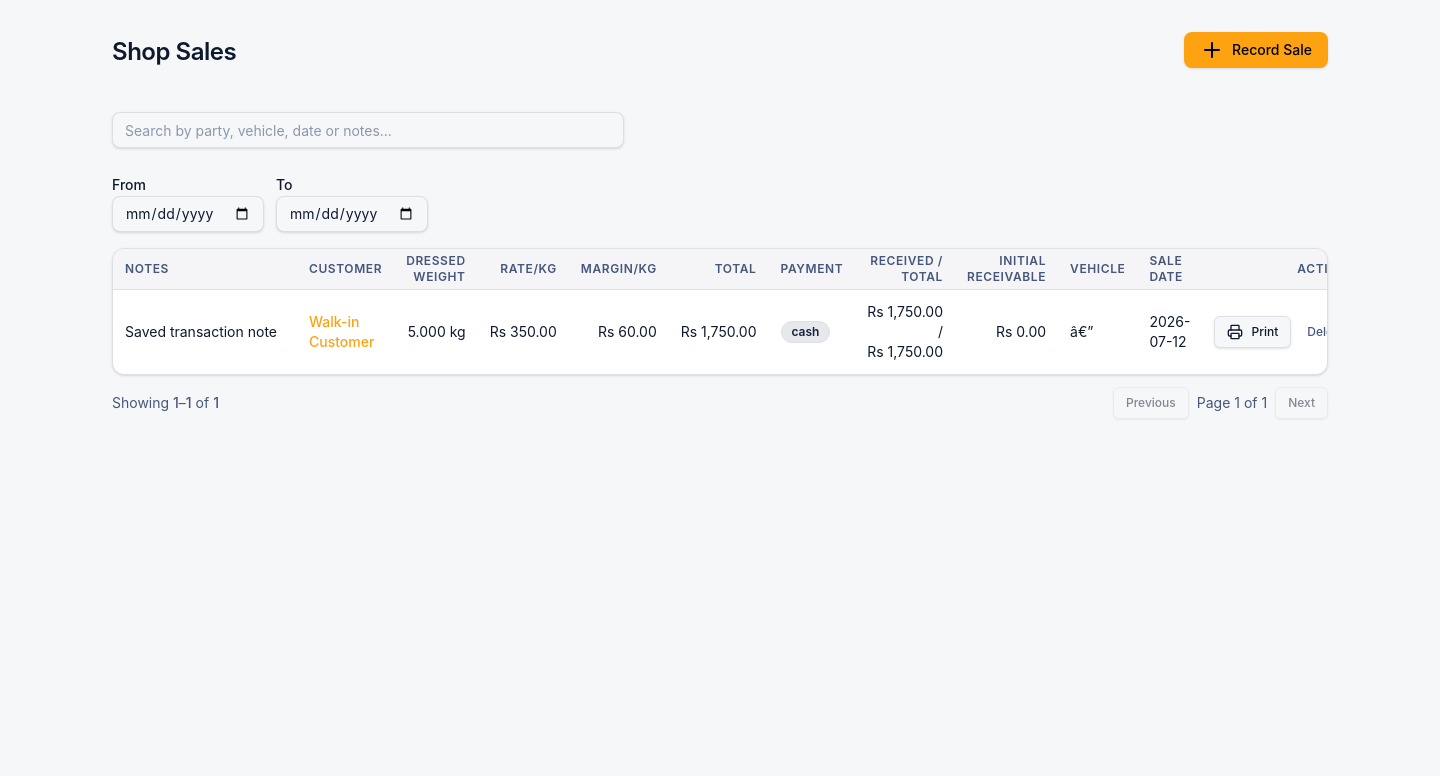
Scenario: ShopSalesPage › opens record sale dialog with stock hint
This screenshot has width=1440, height=776.
Expected: the text "Saved transaction note" is shown, [125,322,285,342]
Click the button "Record Sale".
click(1256, 50)  # box [1184,32,1328,68]
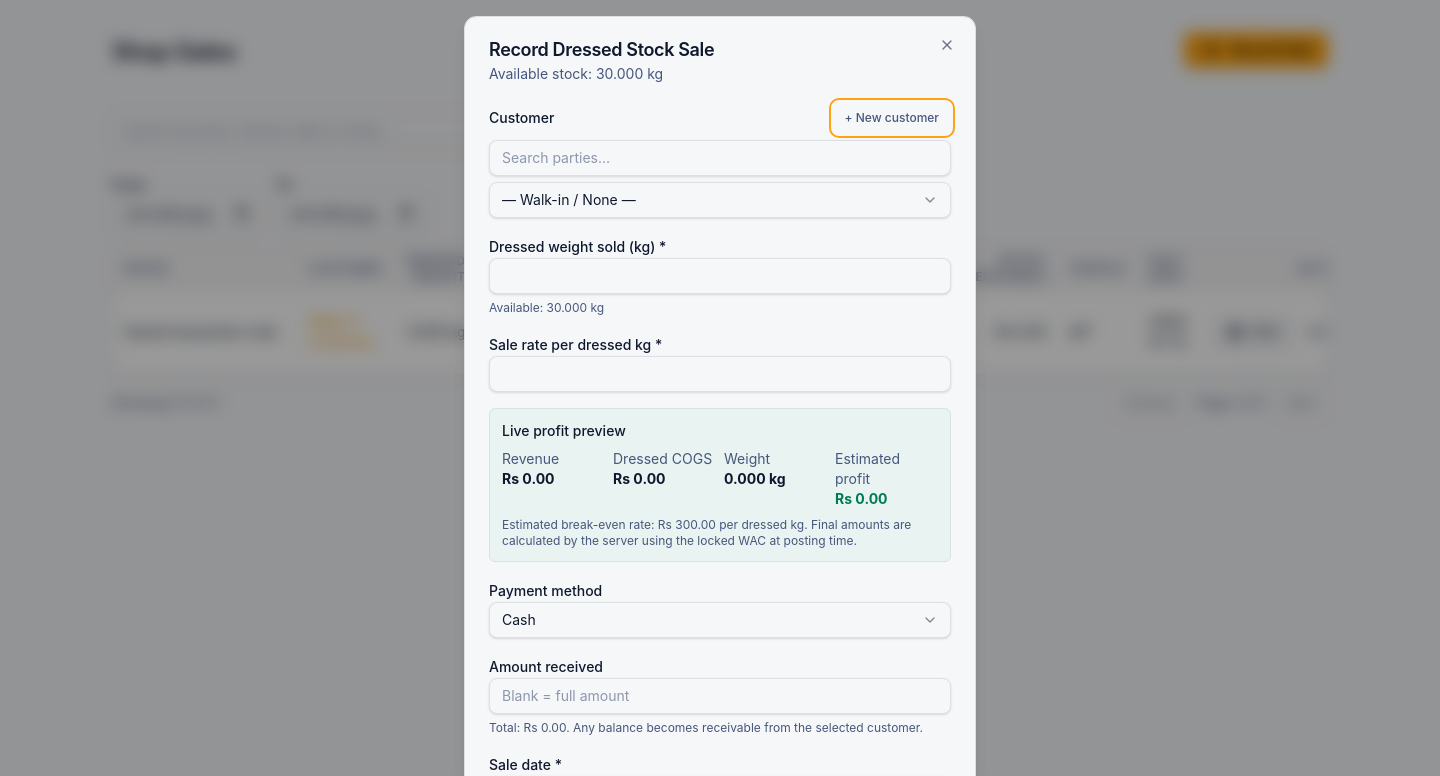
Expected: the text "Available stock: 30.000 kg" is shown, [489,65,663,82]
